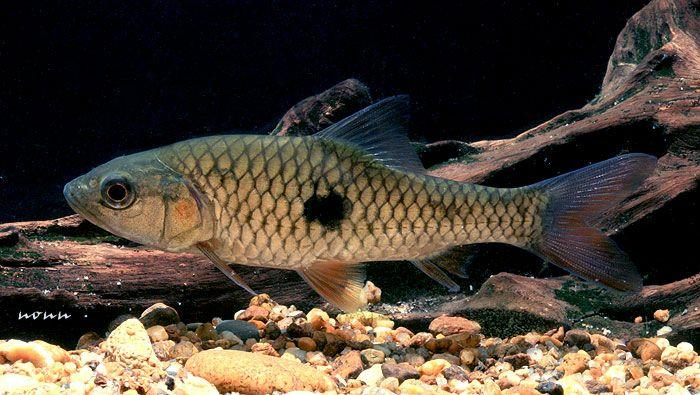Black Spotted Barb: (61, 94, 666, 319)
